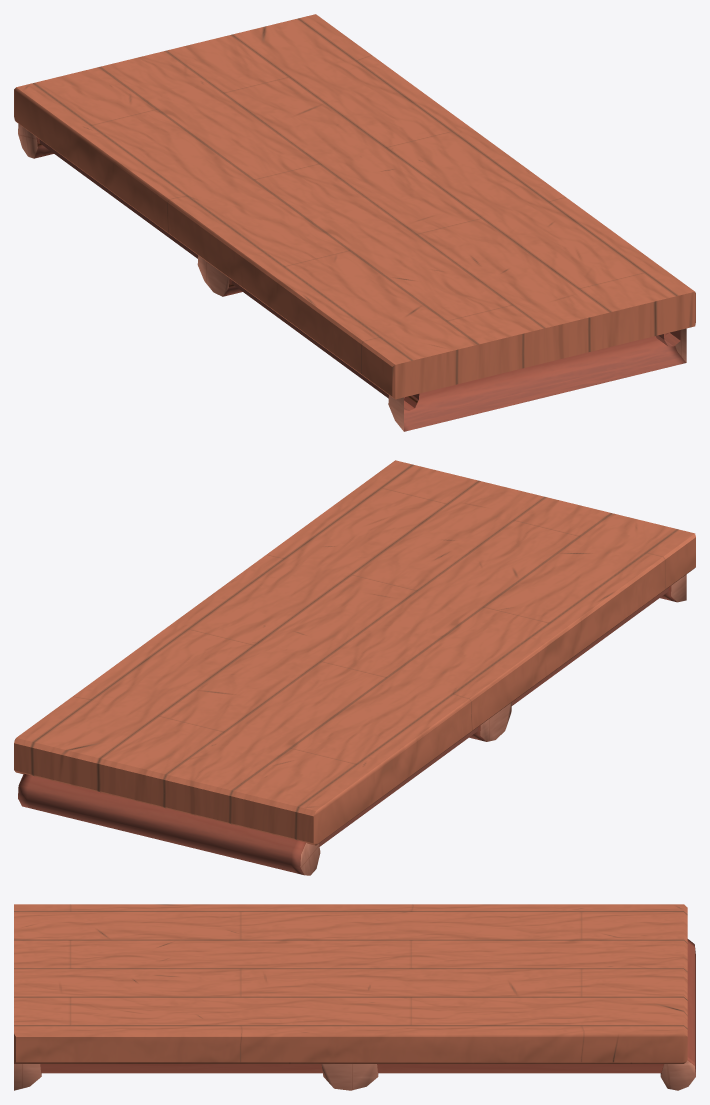
The model's file is SM_Ceilings_Wood.fbx.
3 views of the same model, one above another, from view 1: azimuth 30°, elevation 25°; view 2: azimuth 150°, elevation 25°; view 3: azimuth 270°, elevation 25° (orthographic). The views are drawn at different scales.
Parts seen in each view (by area): view 1: Celing_Wood_Center, Celing_Wood_Left, Celing_Wood_Right; view 2: Celing_Wood_Center, Celing_Wood_Left, Celing_Wood_Right; view 3: Celing_Wood_Center, Celing_Wood_Right, Celing_Wood_Left.
Boxes of the visible parts, bbox=[...] form: Celing_Wood_Center: bbox=[34, 18, 677, 429]; Celing_Wood_Left: bbox=[14, 83, 412, 431]; Celing_Wood_Right: bbox=[298, 14, 695, 364]; Celing_Wood_Center: bbox=[27, 464, 676, 872]; Celing_Wood_Left: bbox=[291, 529, 695, 875]; Celing_Wood_Right: bbox=[14, 460, 412, 808]; Celing_Wood_Center: bbox=[14, 912, 695, 1070]; Celing_Wood_Right: bbox=[14, 1025, 695, 1090]; Celing_Wood_Left: bbox=[14, 904, 695, 957].
Size of the model in its own units: 230 by 50 by 506.
1 material, 1 textured.
